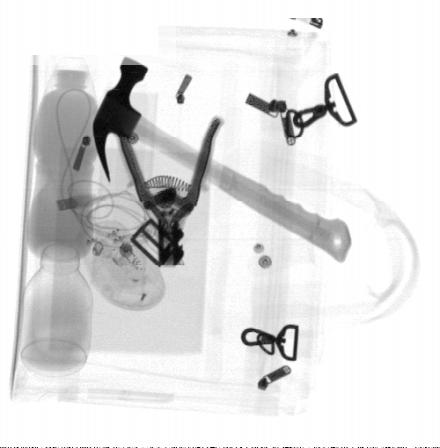Hammer: (93, 56, 352, 263)
Pliers: (111, 104, 224, 266)
